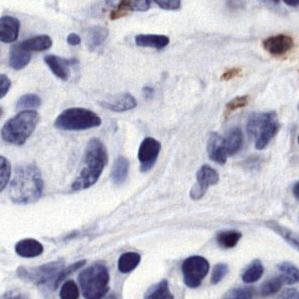Lymphocyte: (261, 33, 296, 55)
